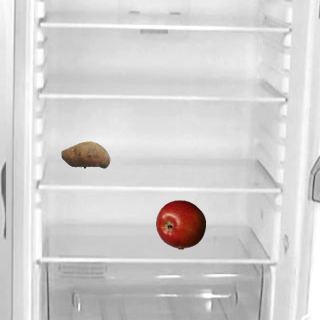Apple Braeburn: (155, 199, 205, 249)
Potato Sweet: (60, 129, 110, 179)
